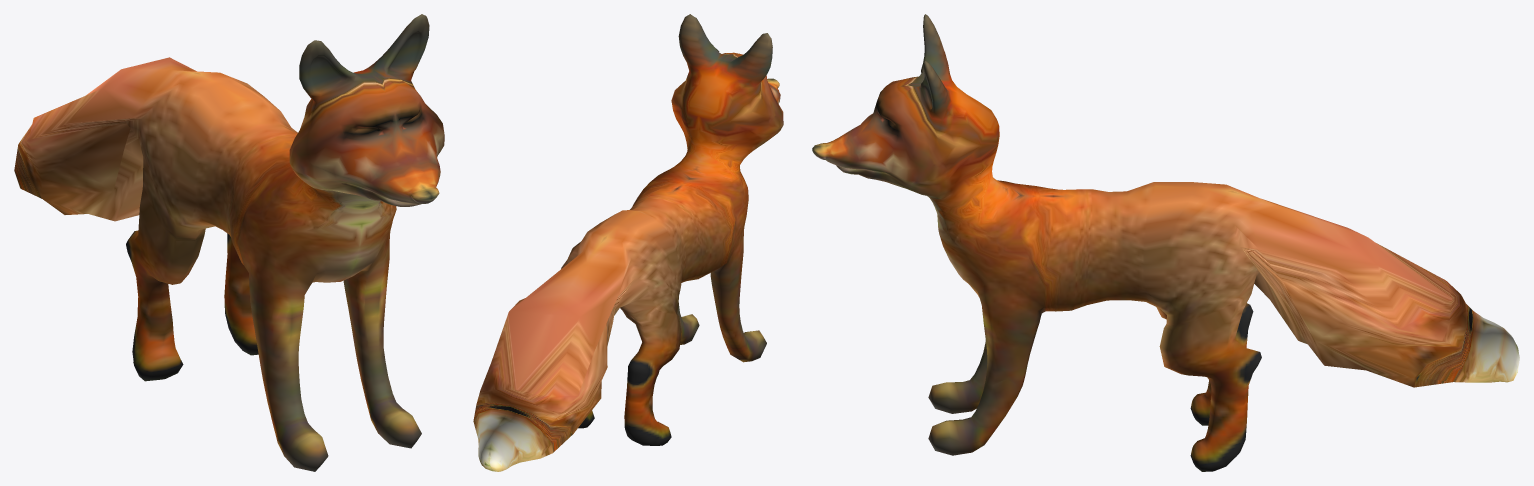
Rendered from newFoxModel[final].FBX.
3 renders of one model, left to right at view 1: azimuth 30°, elevation 25°; view 2: azimuth 150°, elevation 25°; view 3: azimuth 270°, elevation 25°, orthographic. The views are drawn at different scales.
Visible parts, largest first — view 1: fox; view 2: fox; view 3: fox.
Boxes of the visible parts, x1=… form: fox: x1=14, y1=14, x2=444, y2=471; fox: x1=473, y1=14, x2=783, y2=471; fox: x1=812, y1=14, x2=1519, y2=471.
Size of the model in its own units: 0.7649 by 2.22 by 3.51.
Materials: 1 (1 with a texture image).
